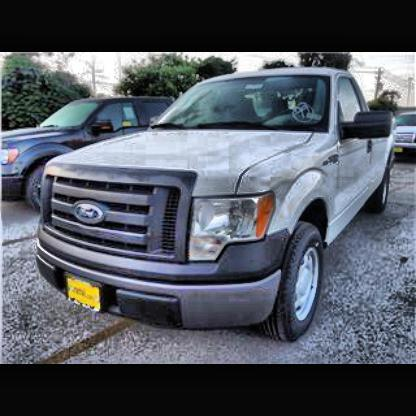Ford F-150 Regular Cab 2012: (37, 73, 404, 342)
